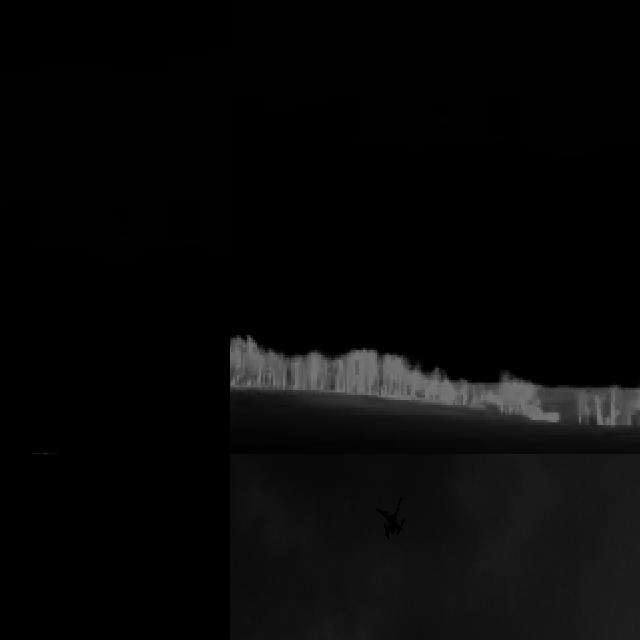0: (449, 248, 475, 284), (74, 369, 104, 399)
drone: (374, 495, 412, 542)
